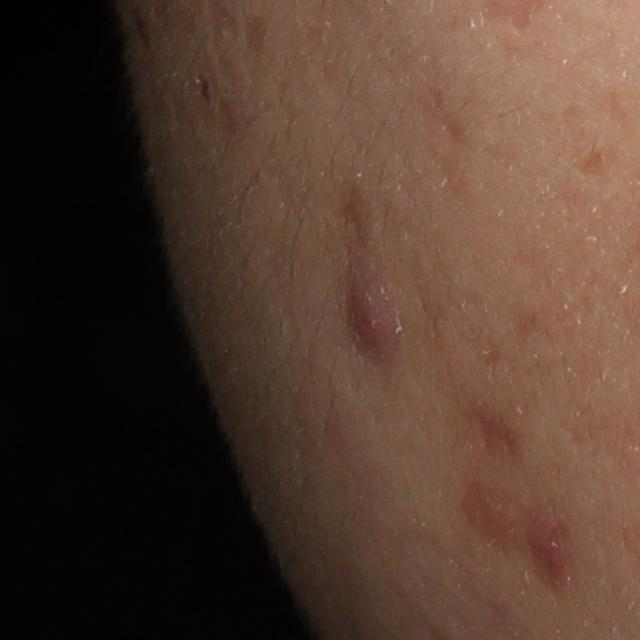atrophic_scar: (460, 470, 529, 558), (474, 411, 530, 465), (339, 177, 375, 245), (570, 152, 607, 179)
papule: (340, 280, 402, 360), (533, 536, 571, 590)
